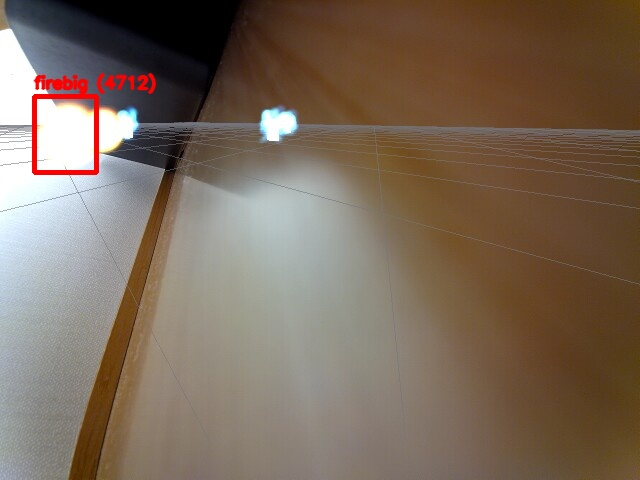firebig: (34, 96, 96, 172)
